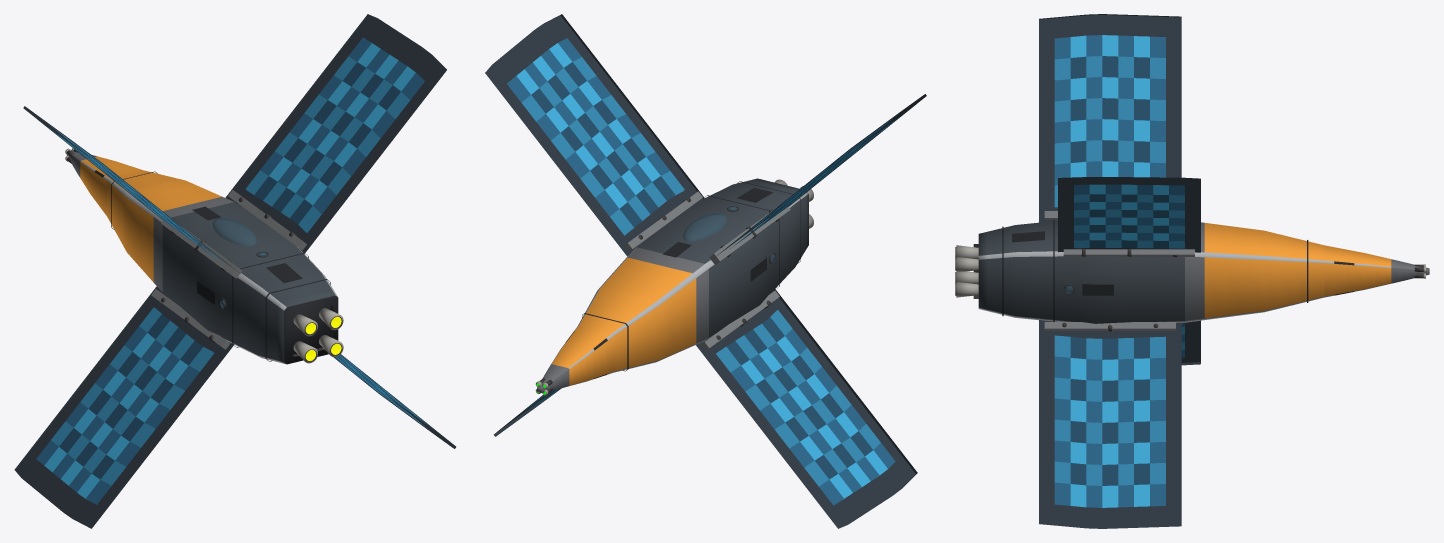
File: Ship_Crosspanel_15.glb
The picture shows the model from 3 angles, left to right: view 1: azimuth 30°, elevation 25°; view 2: azimuth 150°, elevation 25°; view 3: azimuth 270°, elevation 25°; orthographic projection. The views are drawn at different scales.
Visible parts, largest first — view 1: Fuselage_SquareBody, SolarPanelWing_LowerLeftRidge_RectangularPhotovoltaicGrid, SolarPanelWing_TopRightRidge_RectangularPhotovoltaicGrid, SolarPanelWing_TopLeftRidge_RectangularPhotovoltaicGrid, Nose_SquareTaperedForwardSection, SolarPanelWing_LowerRightRidge_RectangularPhotovoltaicGrid, Canopy_DorsalLowSquareBubble, SolarPanelWing_TopLeftRidge_RootHingeClamp, SolarPanelWing_TopRightRidge_RootHingeClamp, SolarPanelWing_LowerLeftRidge_RootHingeClamp; view 2: Fuselage_SquareBody, SolarPanelWing_LowerLeftRidge_RectangularPhotovoltaicGrid, SolarPanelWing_TopRightRidge_RectangularPhotovoltaicGrid, Nose_SquareTaperedForwardSection, SolarPanelWing_TopLeftRidge_RectangularPhotovoltaicGrid, Canopy_DorsalLowSquareBubble, SolarPanelWing_TopLeftRidge_RootHingeClamp, SolarPanelWing_TopRightRidge_RootHingeClamp, SolarPanelWing_LowerLeftRidge_RootHingeClamp; view 3: SolarPanelWing_LowerRightRidge_RectangularPhotovoltaicGrid, Fuselage_SquareBody, SolarPanelWing_TopLeftRidge_RectangularPhotovoltaicGrid, SolarPanelWing_TopRightRidge_RectangularPhotovoltaicGrid, Nose_SquareTaperedForwardSection, SolarPanelWing_LowerRightRidge_RootHingeClamp, SolarPanelWing_TopRightRidge_RootHingeClamp, SolarPanelWing_LowerLeftRidge_RectangularPhotovoltaicGrid.
Boxes of the visible parts, x1,y1,x2,y2 form: Fuselage_SquareBody: (107,170,338,364); SolarPanelWing_LowerLeftRidge_RectangularPhotovoltaicGrid: (14,286,234,528); SolarPanelWing_TopRightRidge_RectangularPhotovoltaicGrid: (225,14,446,253); SolarPanelWing_TopLeftRidge_RectangularPhotovoltaicGrid: (23,106,243,276); Nose_SquareTaperedForwardSection: (66,149,141,215); SolarPanelWing_LowerRightRidge_RectangularPhotovoltaicGrid: (333,354,456,448); Canopy_DorsalLowSquareBubble: (212,217,256,246); SolarPanelWing_TopLeftRidge_RootHingeClamp: (161,220,242,278); SolarPanelWing_TopRightRidge_RootHingeClamp: (228,190,306,250); SolarPanelWing_LowerLeftRidge_RootHingeClamp: (151,289,230,349); Fuselage_SquareBody: (578,178,808,372); SolarPanelWing_LowerLeftRidge_RectangularPhotovoltaicGrid: (696,289,917,528); SolarPanelWing_TopRightRidge_RectangularPhotovoltaicGrid: (485,14,704,256); Nose_SquareTaperedForwardSection: (537,325,614,392); SolarPanelWing_TopLeftRidge_RectangularPhotovoltaicGrid: (711,94,926,260); Canopy_DorsalLowSquareBubble: (683,213,727,241); SolarPanelWing_TopLeftRidge_RootHingeClamp: (709,206,790,264); SolarPanelWing_TopRightRidge_RootHingeClamp: (624,191,702,251); SolarPanelWing_LowerLeftRidge_RootHingeClamp: (701,290,779,351); SolarPanelWing_LowerRightRidge_RectangularPhotovoltaicGrid: (1039,320,1181,528); Fuselage_SquareBody: (978,220,1324,323); SolarPanelWing_TopLeftRidge_RectangularPhotovoltaicGrid: (1039,14,1181,222); SolarPanelWing_TopRightRidge_RectangularPhotovoltaicGrid: (1058,177,1200,252); Nose_SquareTaperedForwardSection: (1324,245,1429,297); SolarPanelWing_LowerRightRidge_RootHingeClamp: (1044,322,1175,330); SolarPanelWing_TopRightRidge_RootHingeClamp: (1063,249,1194,256); SolarPanelWing_LowerLeftRidge_RectangularPhotovoltaicGrid: (1181,320,1200,365).
Bounding box in the file's own units: 6.89 × 6.89 × 8.41.
